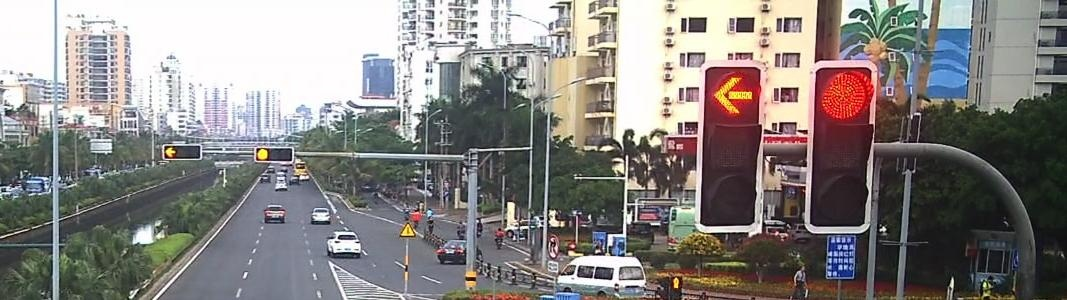red: (818, 69, 871, 120), (256, 149, 270, 161)
redleft: (709, 69, 762, 118), (161, 146, 176, 159)
redpeople: (671, 274, 684, 290)
